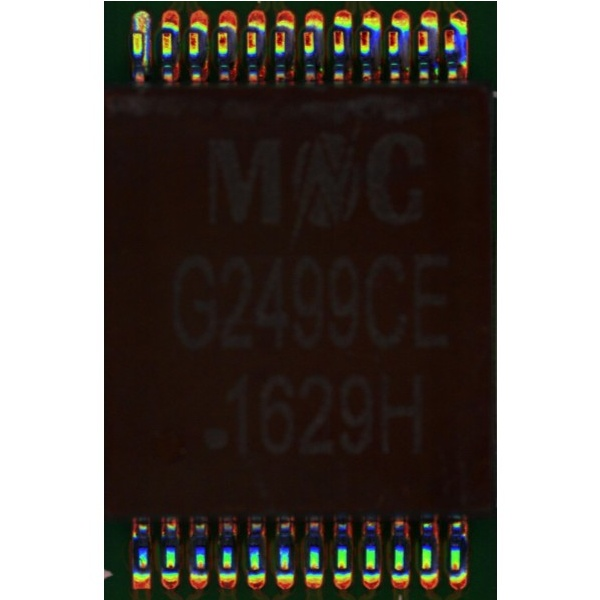Bad_podu: (134, 22, 142, 36)
Bad_qiaojiao: (142, 34, 149, 70)
